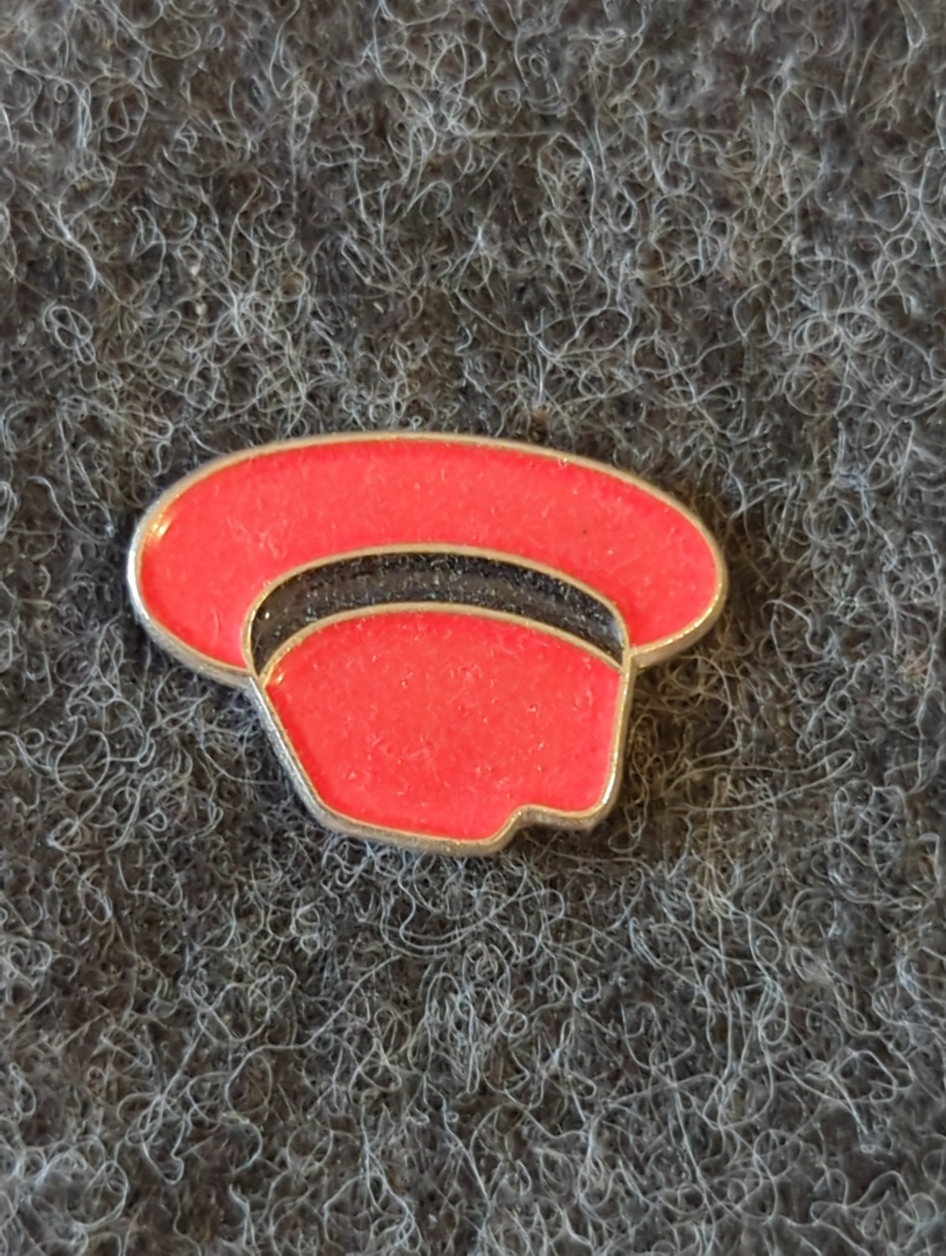Red-Hat: (39, 323, 859, 965)
